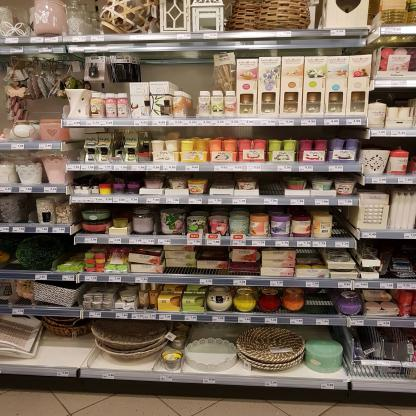Void: (32, 98, 60, 116), (19, 198, 35, 225), (198, 246, 229, 256)
